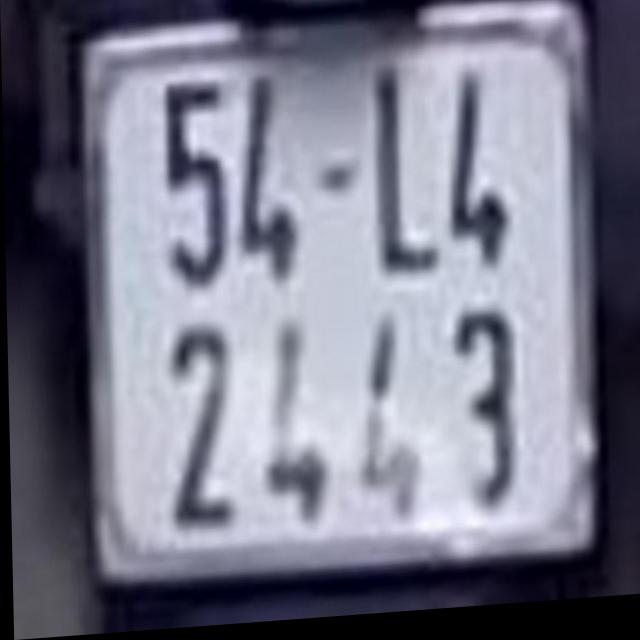2: (168, 328, 232, 521)
3: (452, 317, 519, 522)
4: (262, 328, 333, 529), (358, 322, 424, 526), (445, 80, 508, 275), (235, 78, 295, 278)
5: (157, 77, 229, 288)
L: (370, 73, 441, 283)
